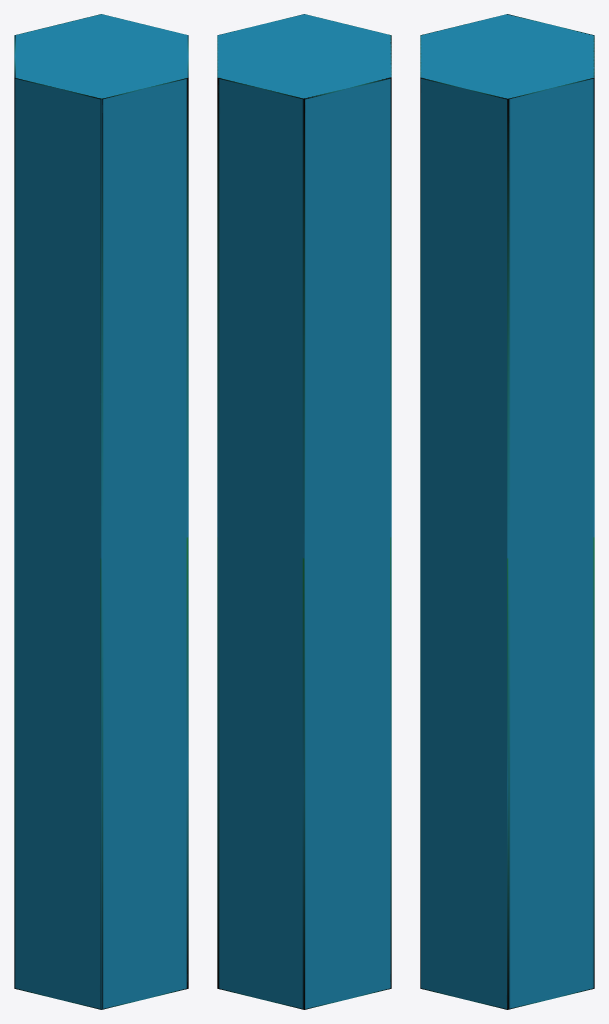
File: world1.obj
3 views of the same model, side by side, from view 1: azimuth 30°, elevation 25°; view 2: azimuth 150°, elevation 25°; view 3: azimuth 270°, elevation 25° (orthographic).
Visible parts, largest first — view 1: 円; view 2: 円; view 3: 円.
Part boxes in pixels (bbox=[...]): 円: bbox=[14, 14, 188, 1009]; 円: bbox=[217, 14, 391, 1009]; 円: bbox=[420, 14, 594, 1009].
Size of the model in its own units: 2 by 10 by 1.73.
1 material, 1 textured.
